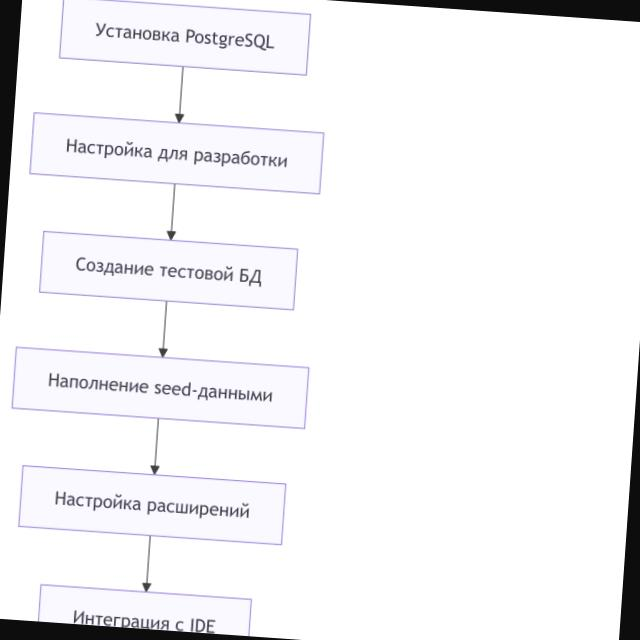arrow: (175, 67, 184, 122), (143, 536, 151, 592), (151, 419, 159, 474), (159, 302, 167, 357), (167, 185, 175, 239)
rectangle: (12, 348, 309, 428), (30, 113, 323, 194), (19, 465, 286, 544), (40, 231, 297, 310), (59, 0, 311, 75)
